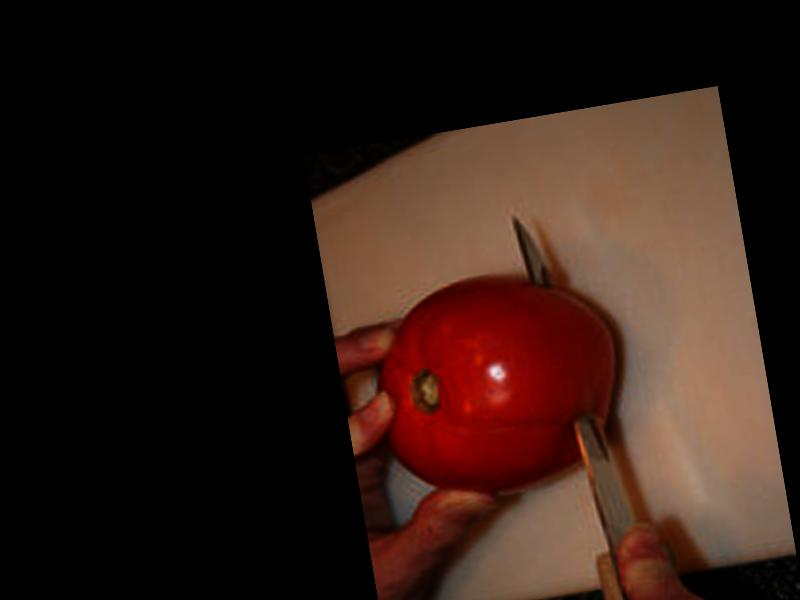Tomato: (359, 255, 634, 507)
